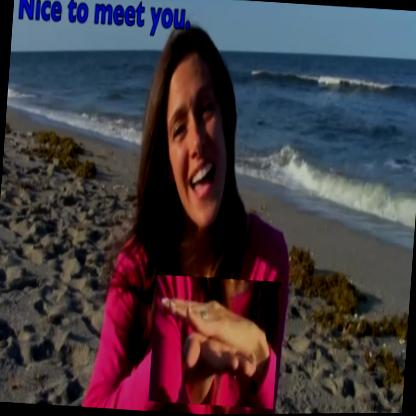NiceToMeetYou: (148, 274, 282, 410)
